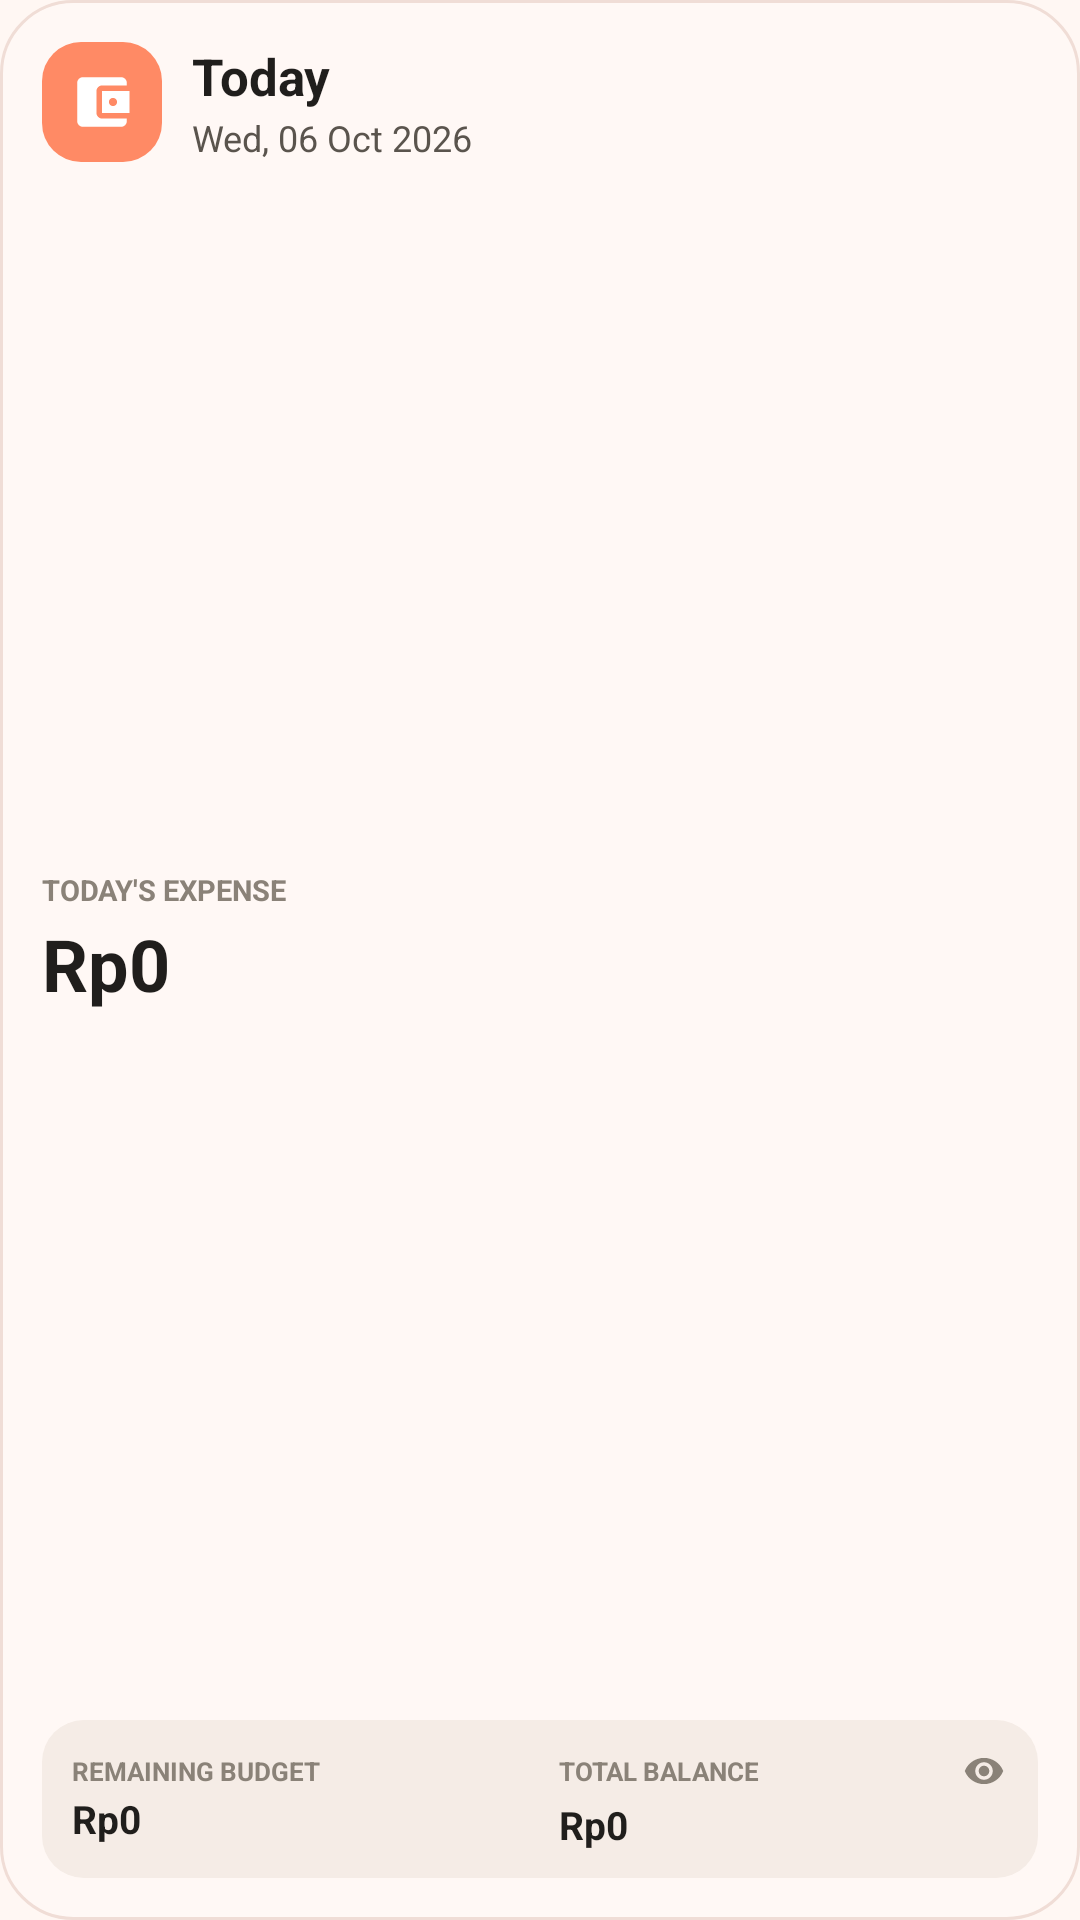

Screen size 1080px×1920px. Icon name, then its center in pixels as (x=x, y=y):
Toggle balance visibility: (x=984, y=1771)
widget wallet: (x=102, y=102)
